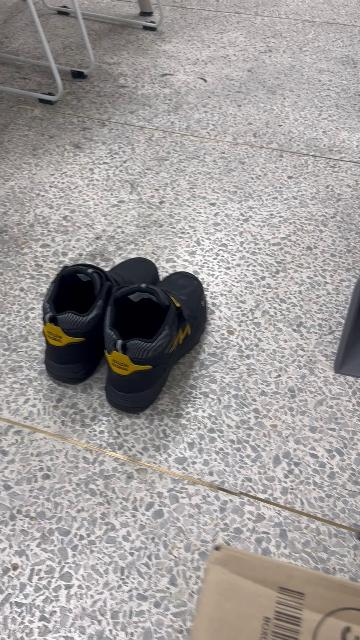shoe_worn: (102, 272, 210, 418), (42, 257, 159, 385)
